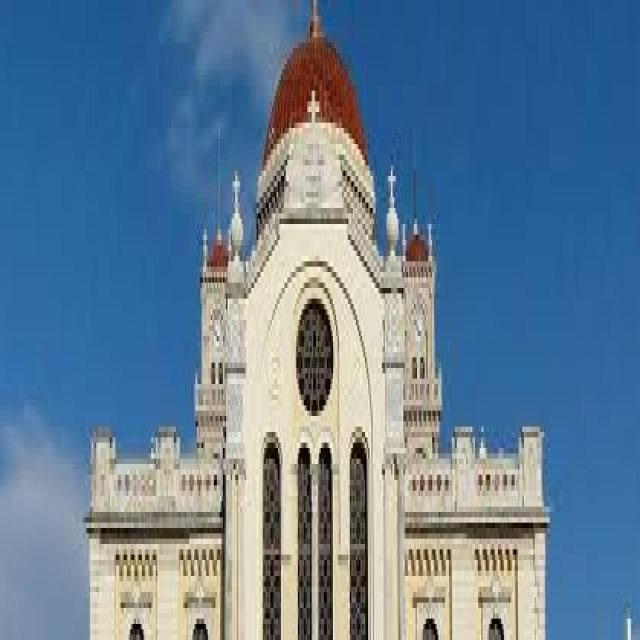Agios Minas: (86, 1, 552, 640)
